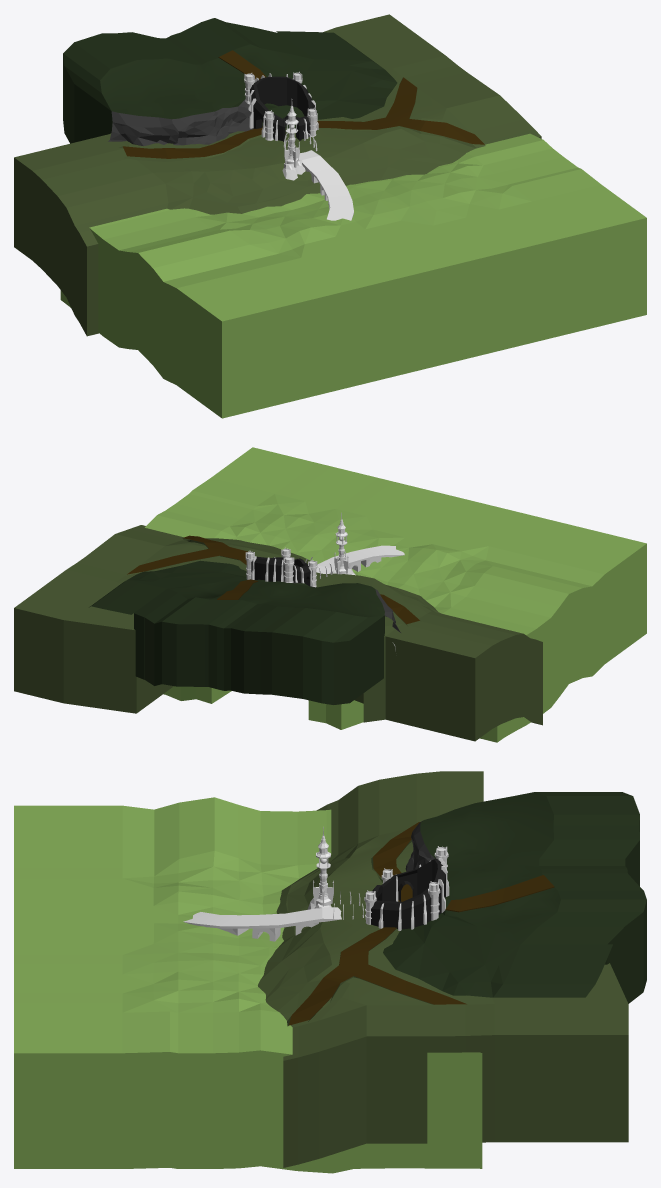
The model's file is back 3.FBX.
3 views of the same model, one above another, from view 1: azimuth 30°, elevation 25°; view 2: azimuth 150°, elevation 25°; view 3: azimuth 270°, elevation 25° (orthographic). The views are drawn at different scales.
Visible parts, largest first — view 1: ground, second cliff, wall, bridge; view 2: ground, wall, bridge; view 3: ground, wall, bridge, second cliff.
Part boxes in pixels (x1,y1,x2,y2): ground: (14, 14, 646, 418); second cliff: (108, 99, 253, 146); wall: (249, 76, 315, 140); bridge: (299, 150, 353, 220); ground: (14, 447, 646, 742); wall: (251, 556, 312, 586); bridge: (316, 545, 404, 573); ground: (14, 771, 646, 1173); wall: (371, 858, 445, 929); bridge: (183, 907, 341, 928); second cliff: (405, 821, 434, 871).
Bounding box in the file's own units: 9836 × 3864 × 10178.
